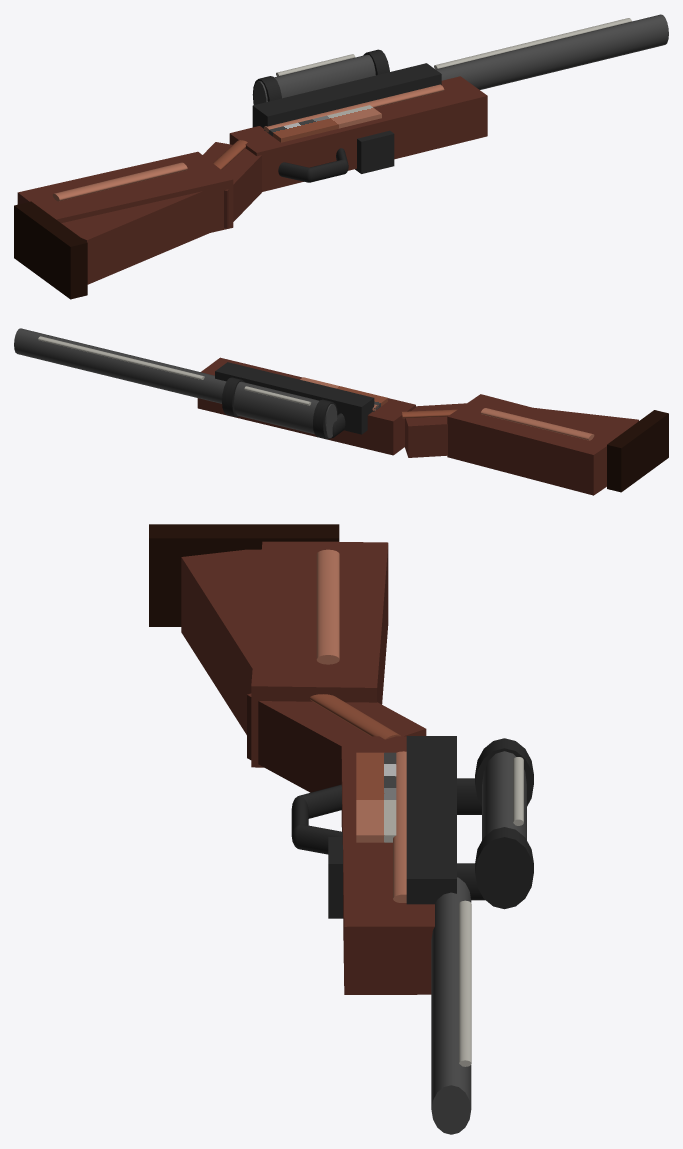
Rendered from CMU3DWorldRMCWeaponBoltActionRifleCloud.glb.
3 renders of one model, top to bottom at view 1: azimuth 30°, elevation 25°; view 2: azimuth 150°, elevation 25°; view 3: azimuth 270°, elevation 25°, orthographic. The views are drawn at different scales.
Visible parts, largest first — view 1: wooden fore-end, wood butt upper stock, wood lower stock taper, exterior steel barrel, stock dark butt end, receiver bolt housing exterior, default miniscope tube, curved wood wrist, source wooden fore-end, short flush magazine underside, wood stock warm glint, wood fore-end highlight (+3 smaller); view 2: wood butt upper stock, exterior steel barrel, stock dark butt end, wooden fore-end, receiver bolt housing exterior, default miniscope tube, curved wood wrist, wood stock warm glint, barrel bright line, wood lower stock taper, scope end casing 36.7, scope end casing 44.2 (+3 smaller); view 3: wood butt upper stock, wooden fore-end, wood lower stock taper, receiver bolt housing exterior, curved wood wrist, exterior steel barrel, stock dark butt end, scope end casing 44.2, source wooden fore-end, wood stock warm glint, default miniscope tube, barrel bright line (+6 smaller).
Part boxes in pixels (x1,y1,x2,y2): wooden fore-end: [229, 76, 487, 191]; wood butt upper stock: [17, 151, 233, 234]; wood lower stock taper: [61, 191, 208, 284]; exterior steel barrel: [436, 14, 668, 89]; stock dark butt end: [14, 201, 87, 299]; receiver bolt housing exterior: [252, 63, 441, 128]; default miniscope tube: [253, 54, 375, 104]; curved wood wrist: [203, 142, 261, 228]; source wooden fore-end: [264, 105, 381, 142]; short flush magazine underside: [355, 130, 394, 173]; wood stock warm glint: [52, 162, 187, 201]; wood fore-end highlight: [263, 84, 444, 132]; wood butt upper stock: [447, 394, 623, 495]; exterior steel barrel: [14, 328, 226, 403]; stock dark butt end: [607, 410, 668, 492]; wooden fore-end: [197, 357, 415, 455]; receiver bolt housing exterior: [215, 362, 374, 434]; default miniscope tube: [234, 381, 337, 437]; curved wood wrist: [405, 403, 466, 457]; wood stock warm glint: [480, 408, 594, 440]; barrel bright line: [38, 336, 204, 379]; wood lower stock taper: [533, 407, 638, 431]; scope end casing 36.7: [313, 399, 337, 439]; scope end casing 44.2: [222, 377, 244, 417]; wood butt upper stock: [251, 541, 388, 767]; wooden fore-end: [341, 736, 434, 994]; wood lower stock taper: [181, 549, 261, 734]; receiver bolt housing exterior: [406, 736, 456, 904]; curved wood wrist: [247, 693, 426, 792]; exterior steel barrel: [431, 877, 471, 1134]; stock dark butt end: [149, 524, 339, 626]; scope end casing 44.2: [475, 827, 533, 909]; source wooden fore-end: [356, 752, 396, 842]; wood stock warm glint: [316, 549, 339, 664]; default miniscope tube: [482, 751, 526, 839]; barrel bright line: [459, 900, 471, 1066].
Bounding box in the file's own units: 1.48 × 0.1455 × 0.4297.
8 materials, 1 textured.
